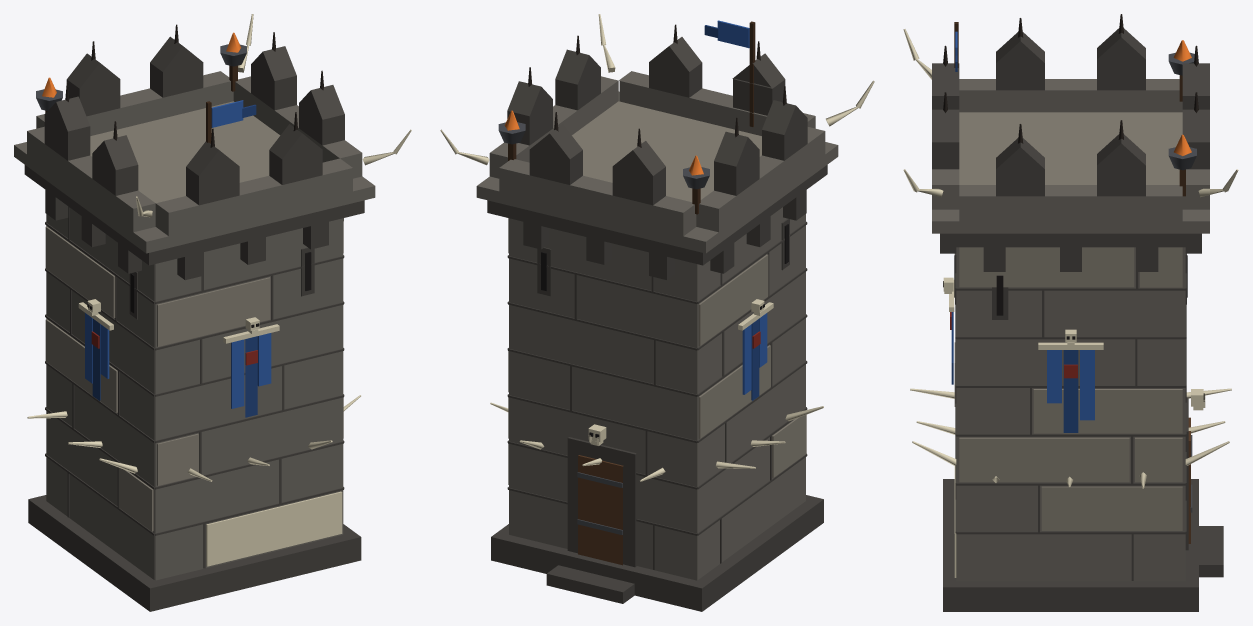
File: orc-stone-tower.glb
The picture shows the model from 3 angles, left to right: view 1: azimuth 30°, elevation 25°; view 2: azimuth 150°, elevation 25°; view 3: azimuth 270°, elevation 25°; orthographic projection. The views are drawn at different scales.
Visible parts, largest first — view 1: orc-stone-tower; view 2: orc-stone-tower; view 3: orc-stone-tower.
Boxes of the visible parts, x1,y1,x2,y2 form: orc-stone-tower: (14,14,411,611); orc-stone-tower: (440,14,874,611); orc-stone-tower: (903,14,1238,611).
Size of the model in its own units: 6.15 by 10.4 by 6.15.
1 material, 1 textured.
